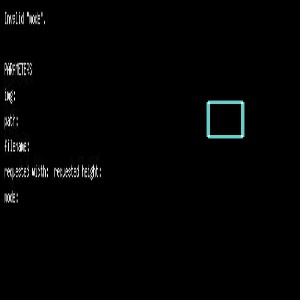square: (202, 99, 247, 140)
